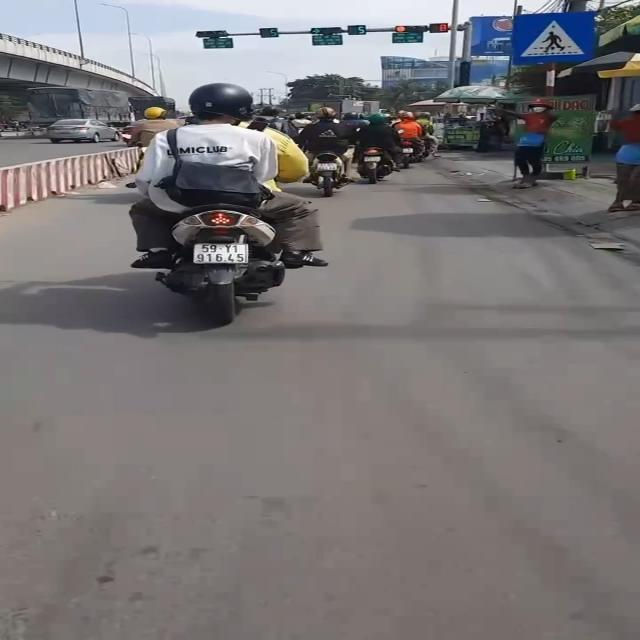224-duong-nguoi-di-bo-cat-ngang: (509, 10, 605, 62)
